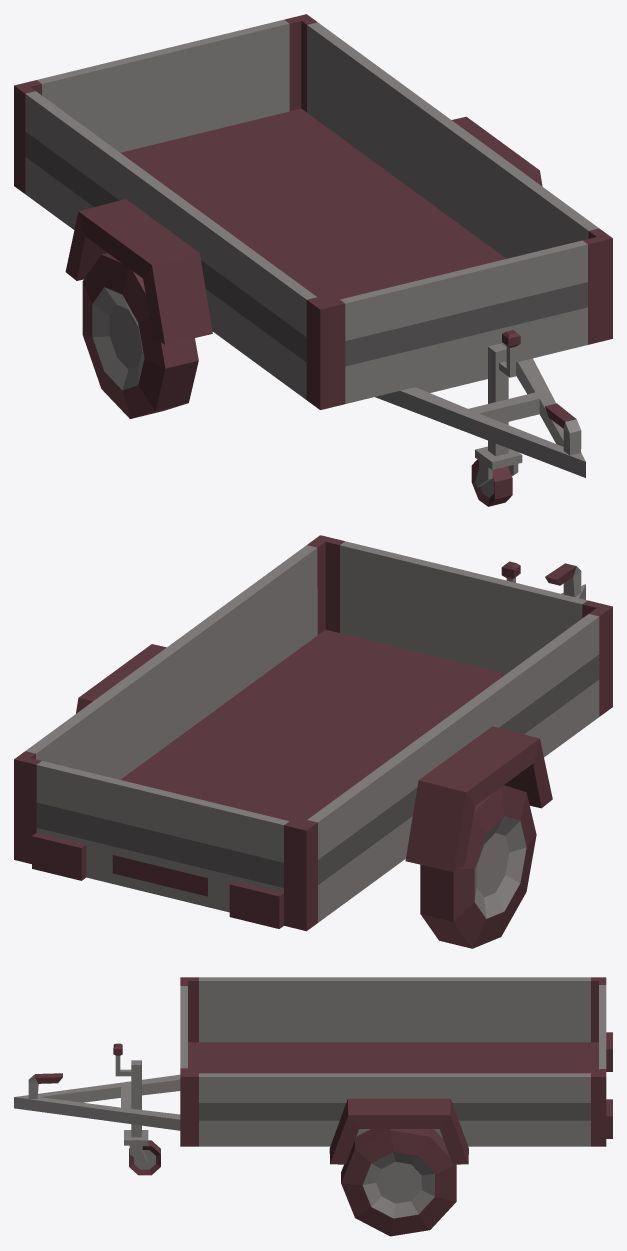
File: trailer-small-standing.fbx
3 views of the same model, one above another, from view 1: azimuth 30°, elevation 25°; view 2: azimuth 150°, elevation 25°; view 3: azimuth 270°, elevation 25° (orthographic). The views are drawn at different scales.
Visible parts, largest first — view 1: trailer-small-standing; view 2: trailer-small-standing; view 3: trailer-small-standing.
Boxes of the visible parts, box(x1,y1,x2,y2) form: trailer-small-standing: box(14, 14, 612, 506); trailer-small-standing: box(14, 535, 612, 948); trailer-small-standing: box(14, 977, 612, 1236).
Bounding box in the file's own units: 1.47 × 0.7578 × 2.81.
